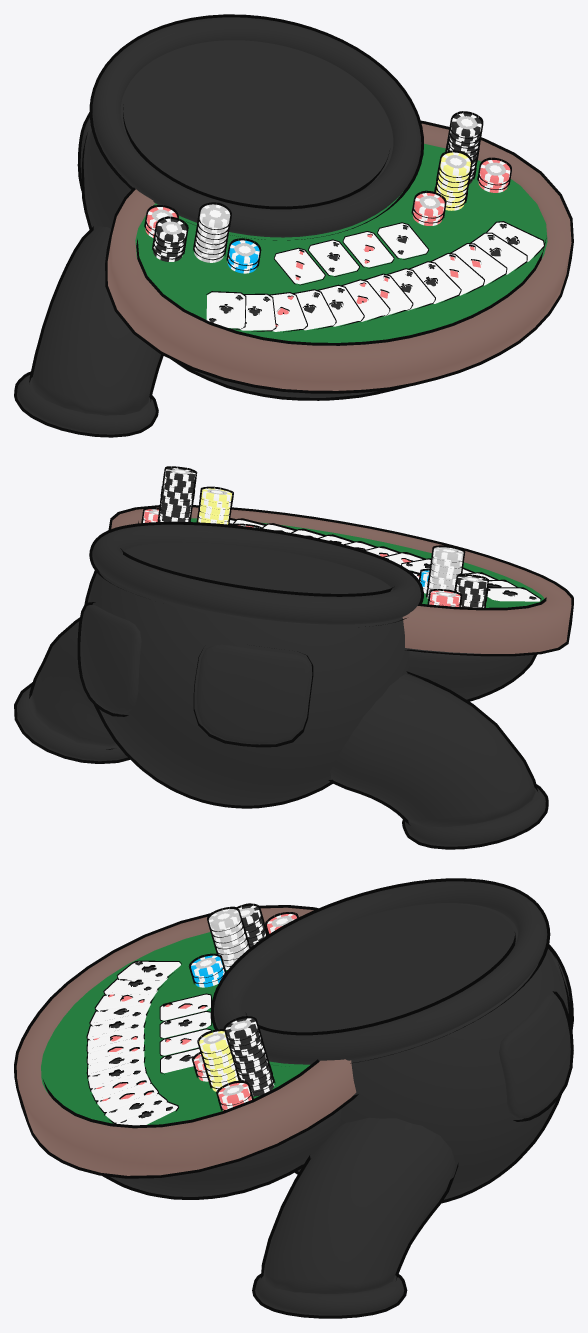
Rendered from BOTTOMS.MATHS.CASINO.glb.
3 views of the same model, one above another, from view 1: azimuth 30°, elevation 25°; view 2: azimuth 150°, elevation 25°; view 3: azimuth 270°, elevation 25° (orthographic). The views are drawn at different scales.
Parts seen in each view (by area): view 1: BOTTOMS.MATHS.CASINO; view 2: BOTTOMS.MATHS.CASINO; view 3: BOTTOMS.MATHS.CASINO.
Part boxes in pixels (<box>): BOTTOMS.MATHS.CASINO: <box>14,14,573,437</box>; BOTTOMS.MATHS.CASINO: <box>14,466,573,849</box>; BOTTOMS.MATHS.CASINO: <box>14,878,573,1318</box>.
Bounding box in the file's own units: 2.02 × 1.07 × 1.84.
